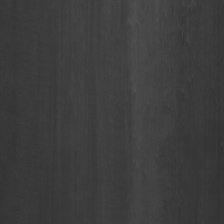silk_spot: (161, 12, 201, 98)
